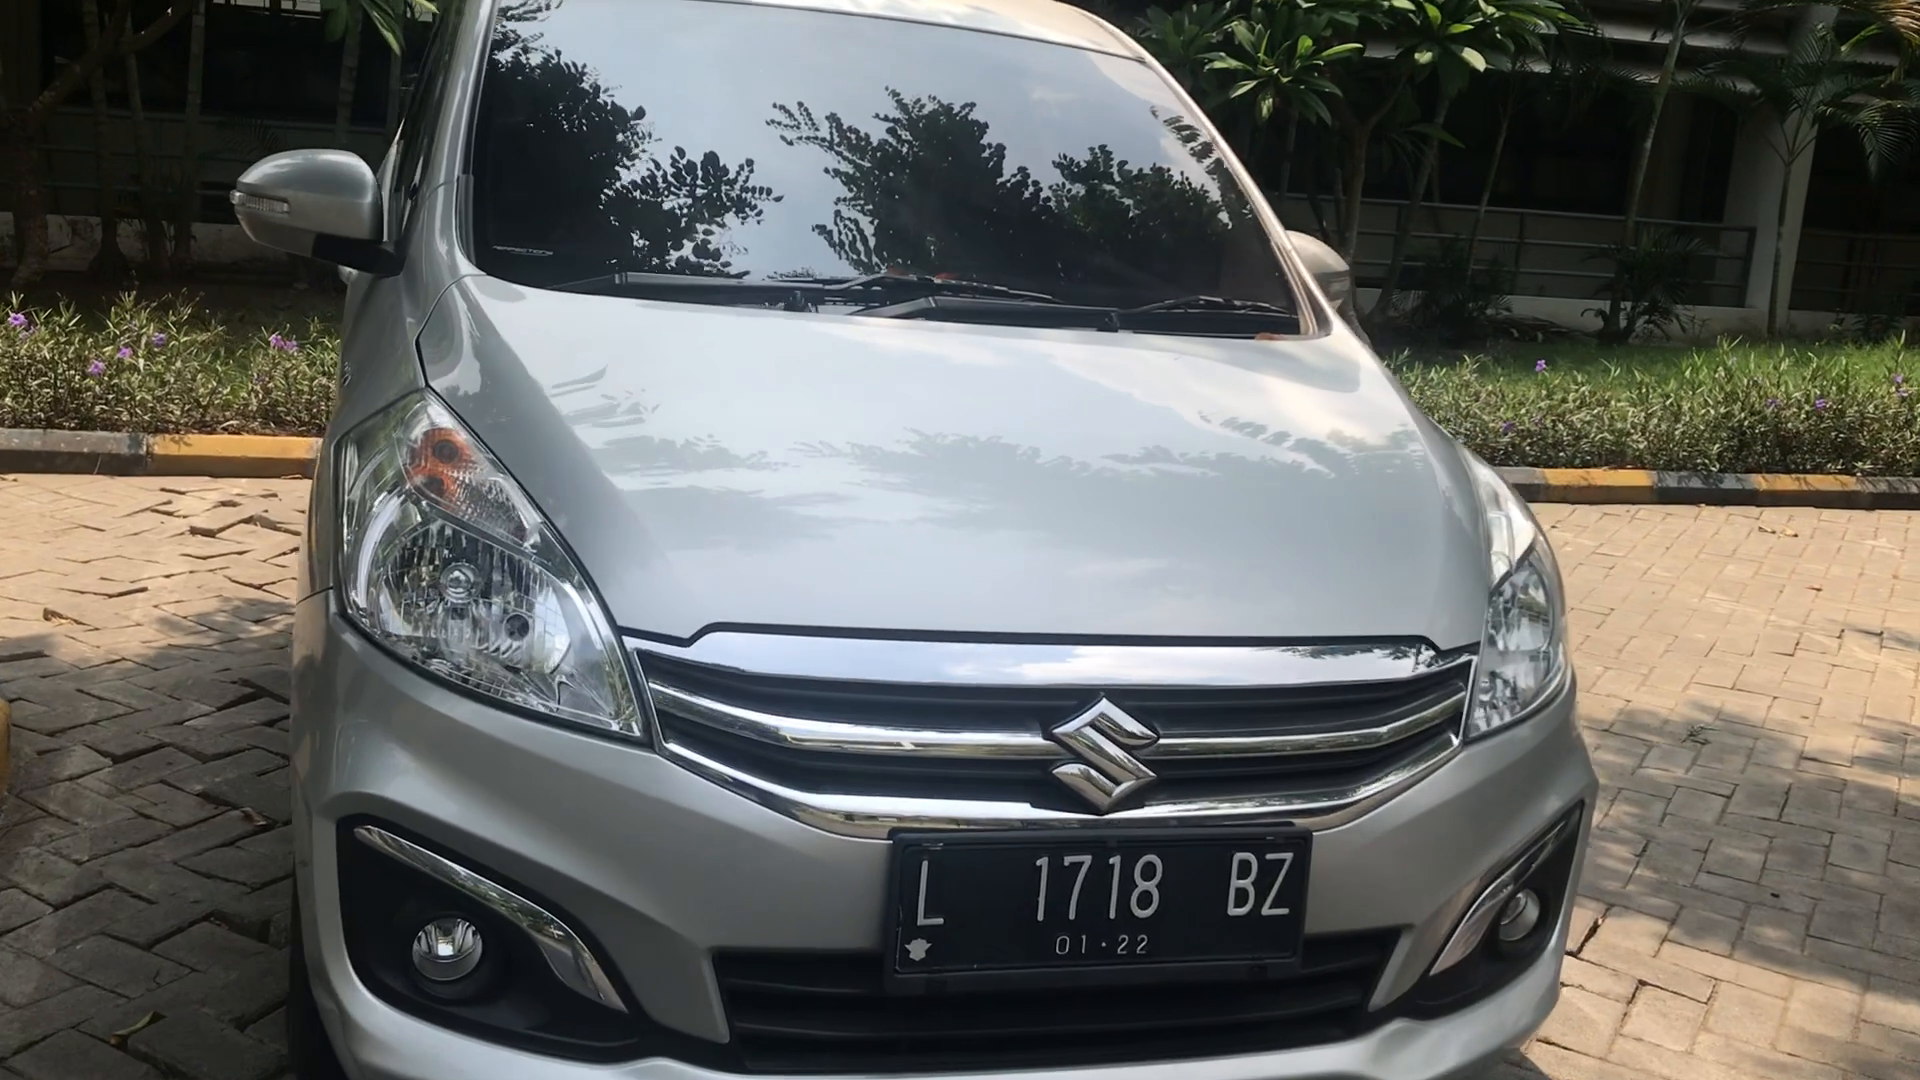plate: (885, 835, 1310, 977)
